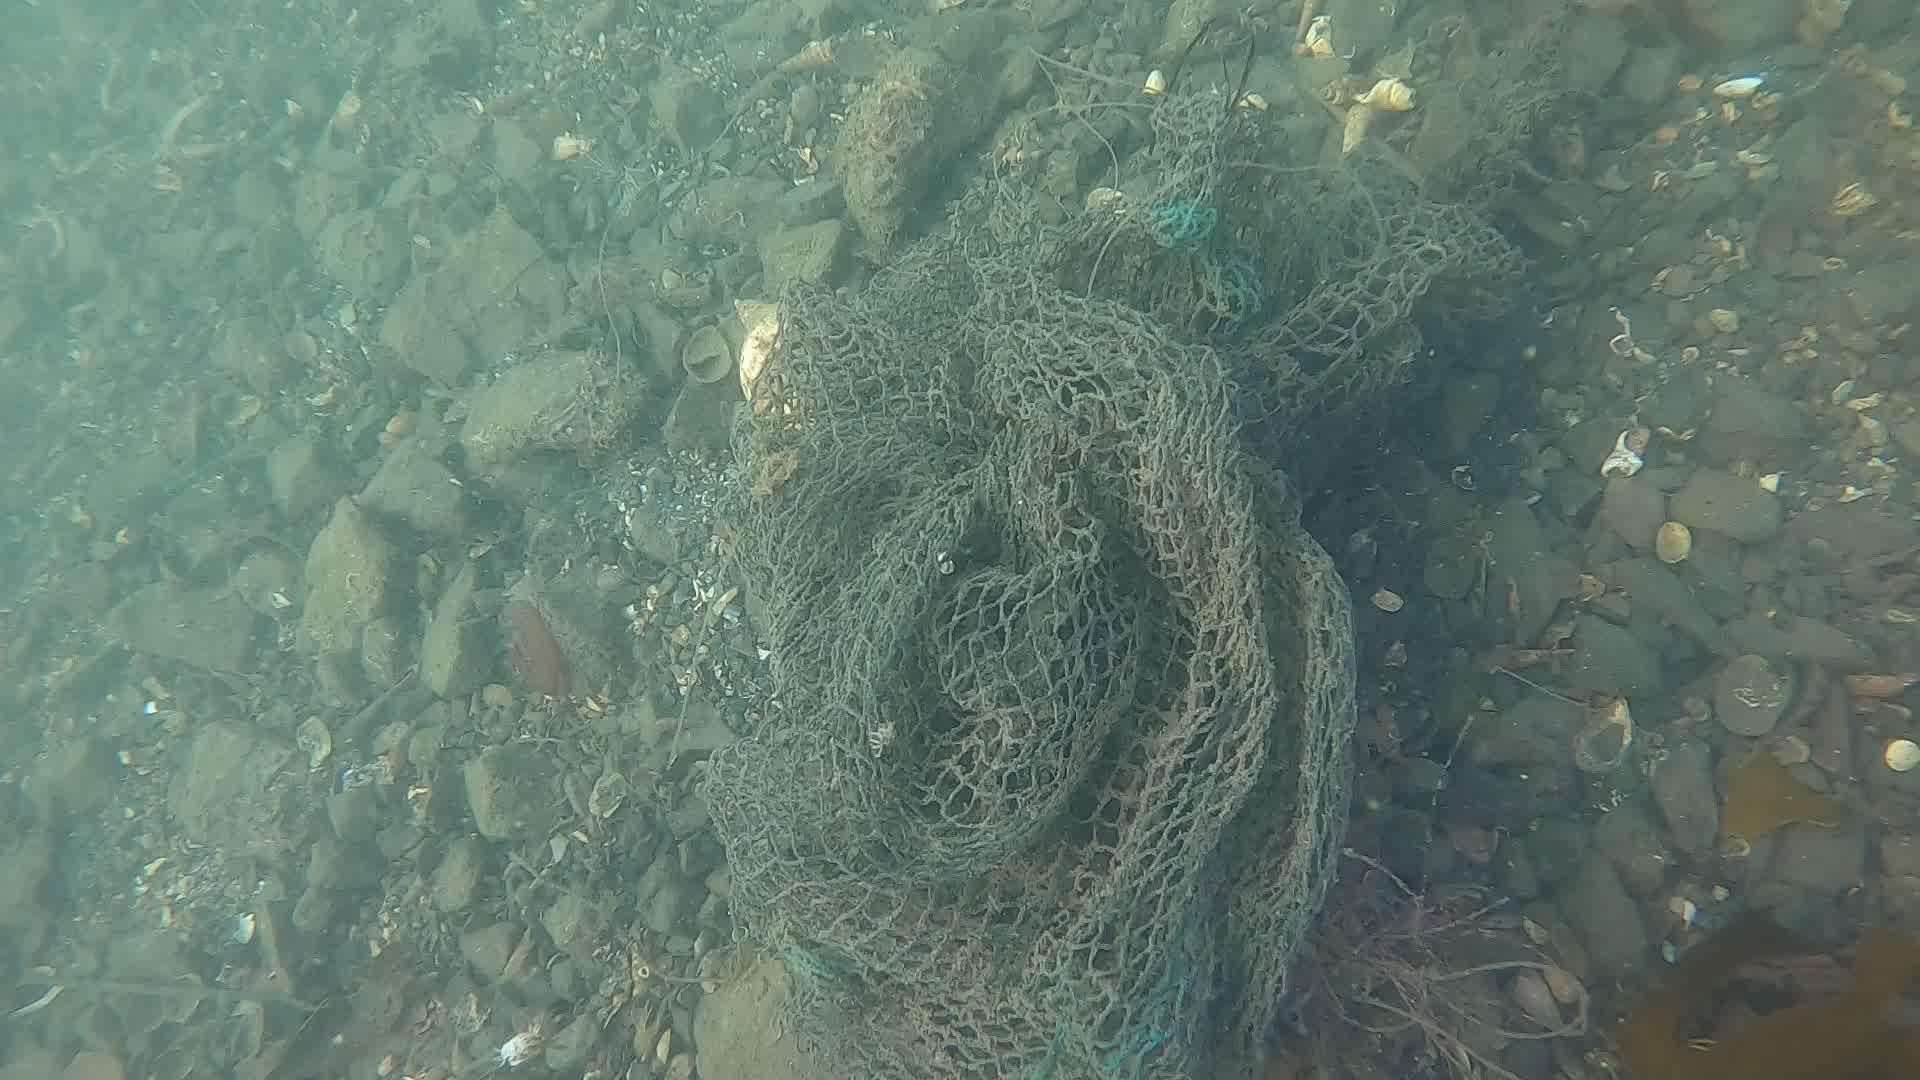fish net: (703, 94, 1507, 1080)
